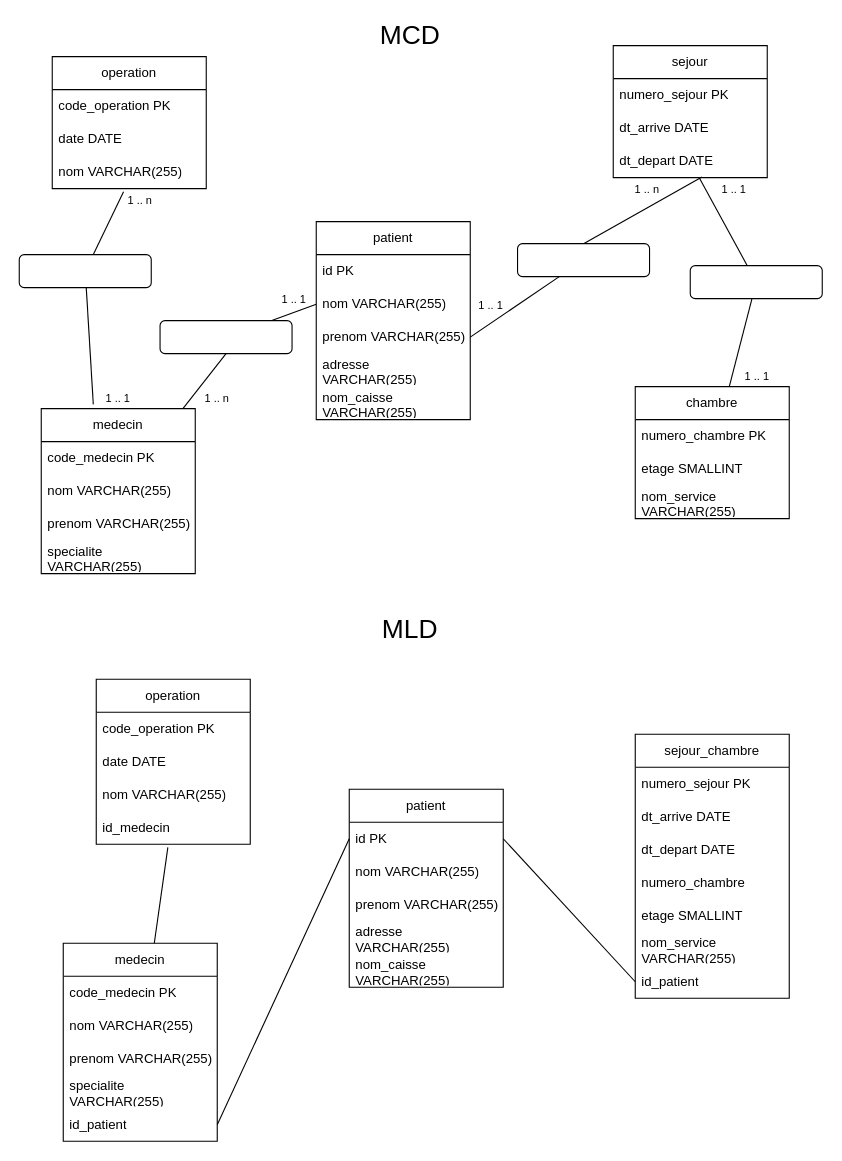
The diagram is 842 pixels wide and 1161 high, and some of its shapes have lost their labels. Each missing label, with the centre of its shape:
Diriger: point 84,271
Effectuer: point 583,260
Intervention: point 225,337
Sejourner: point 755,282
